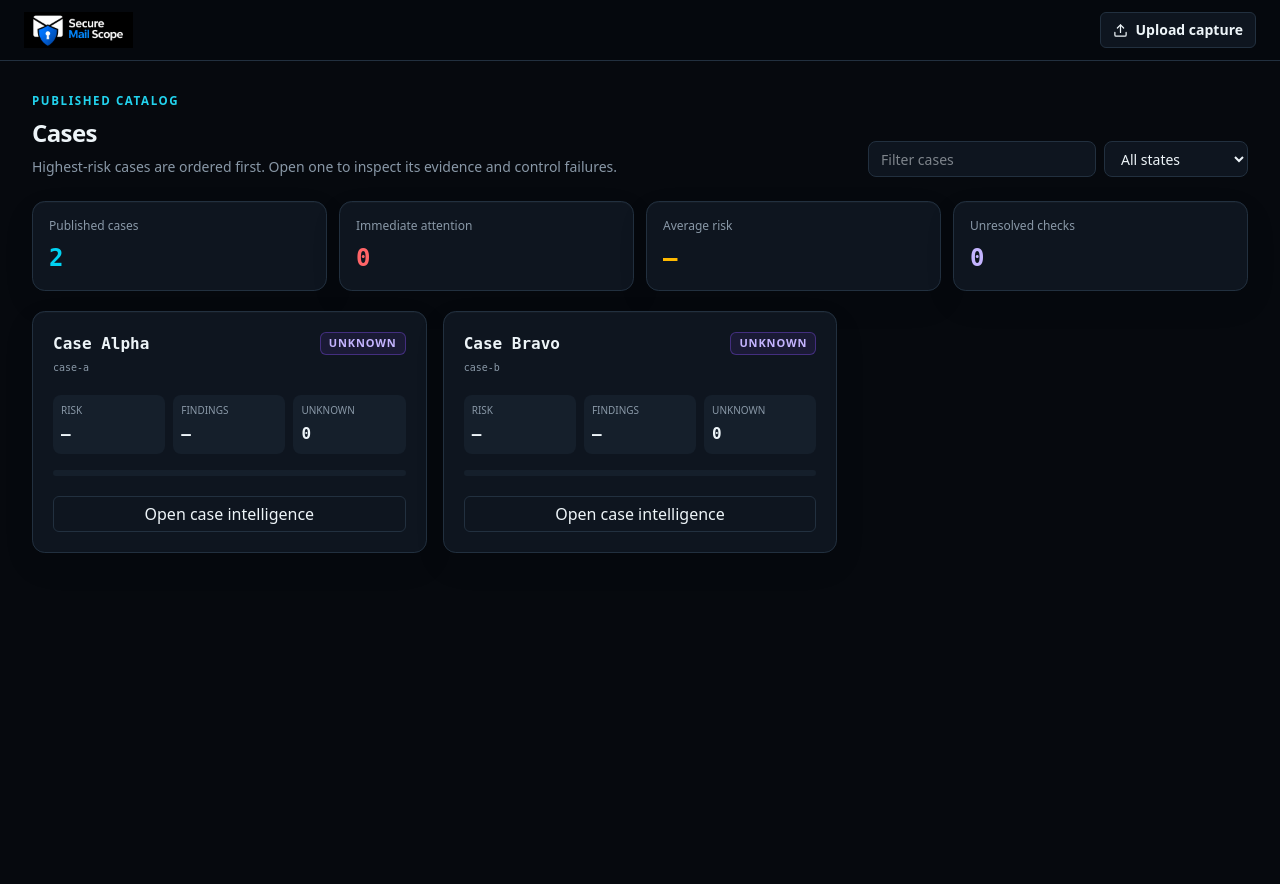
it: case isolation › does not retain a previous case after clear or switch
The image size is (1280, 884).
Expected: the heading "Case Alpha" is shown, top-left (53, 332), bottom-right (149, 356)
Step 1. Click the button "Open case intelligence" below "case-a" → {"x": 229, "y": 514}, box top-left (53, 496), bottom-right (406, 532)
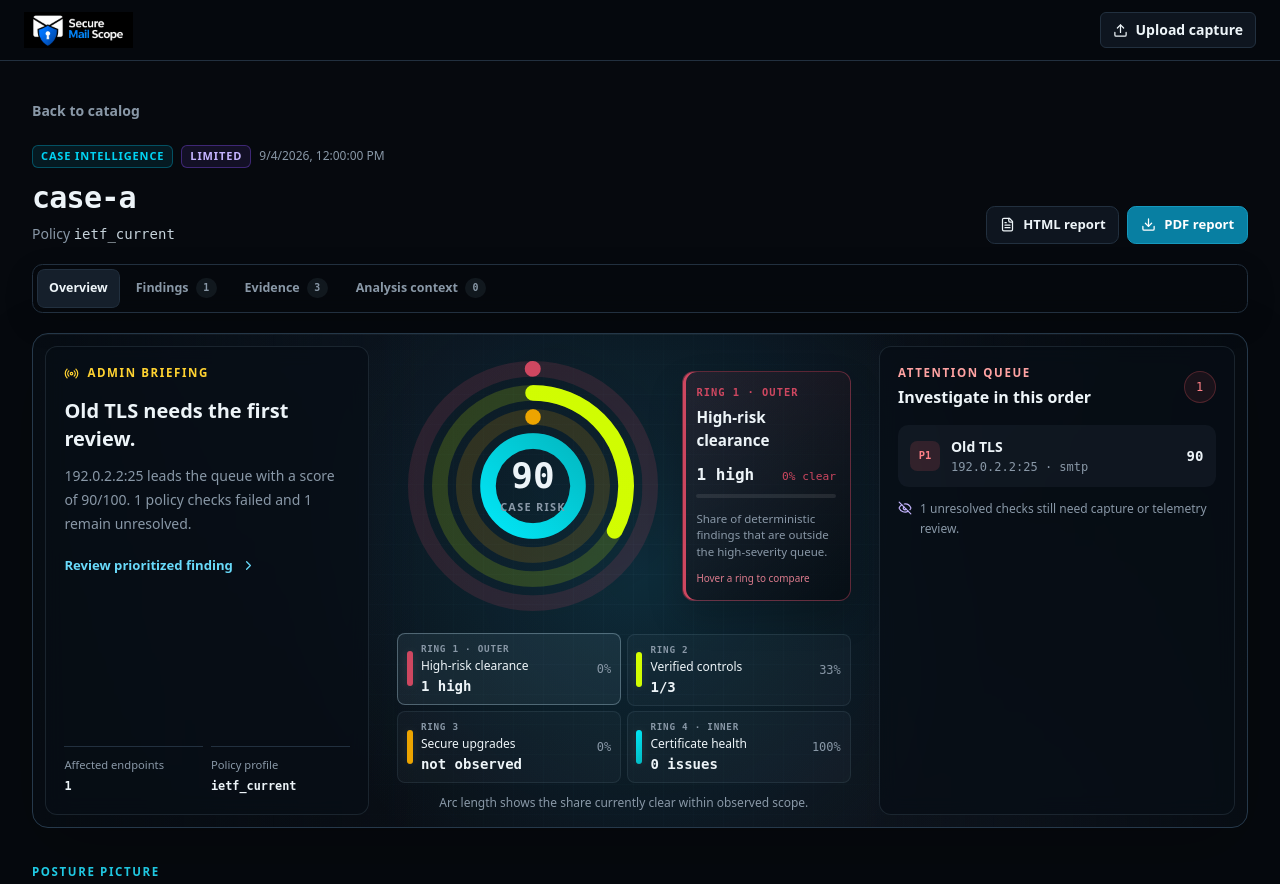
Expected: the heading "case-a" is shown, top-left (32, 180), bottom-right (136, 214)
Step 2. Click the link "Back to catalog" → {"x": 86, "y": 110}, box top-left (32, 101), bottom-right (140, 120)
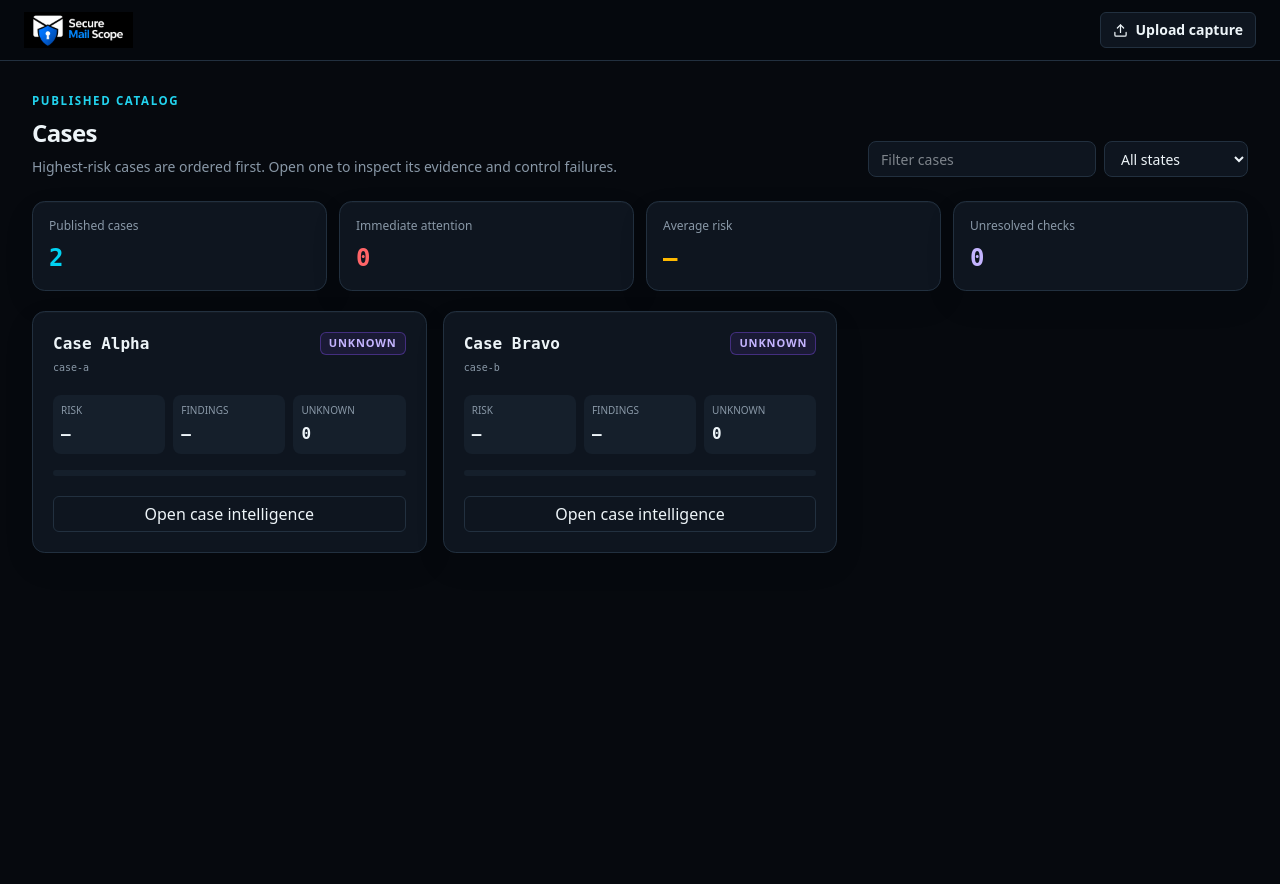
Now the element with test id "no-case-selected" is shown, box top-left (32, 93), bottom-right (1248, 553)
Step 3. Click the button "Open case intelligence" below "case-b" → {"x": 640, "y": 514}, box top-left (464, 496), bottom-right (816, 532)
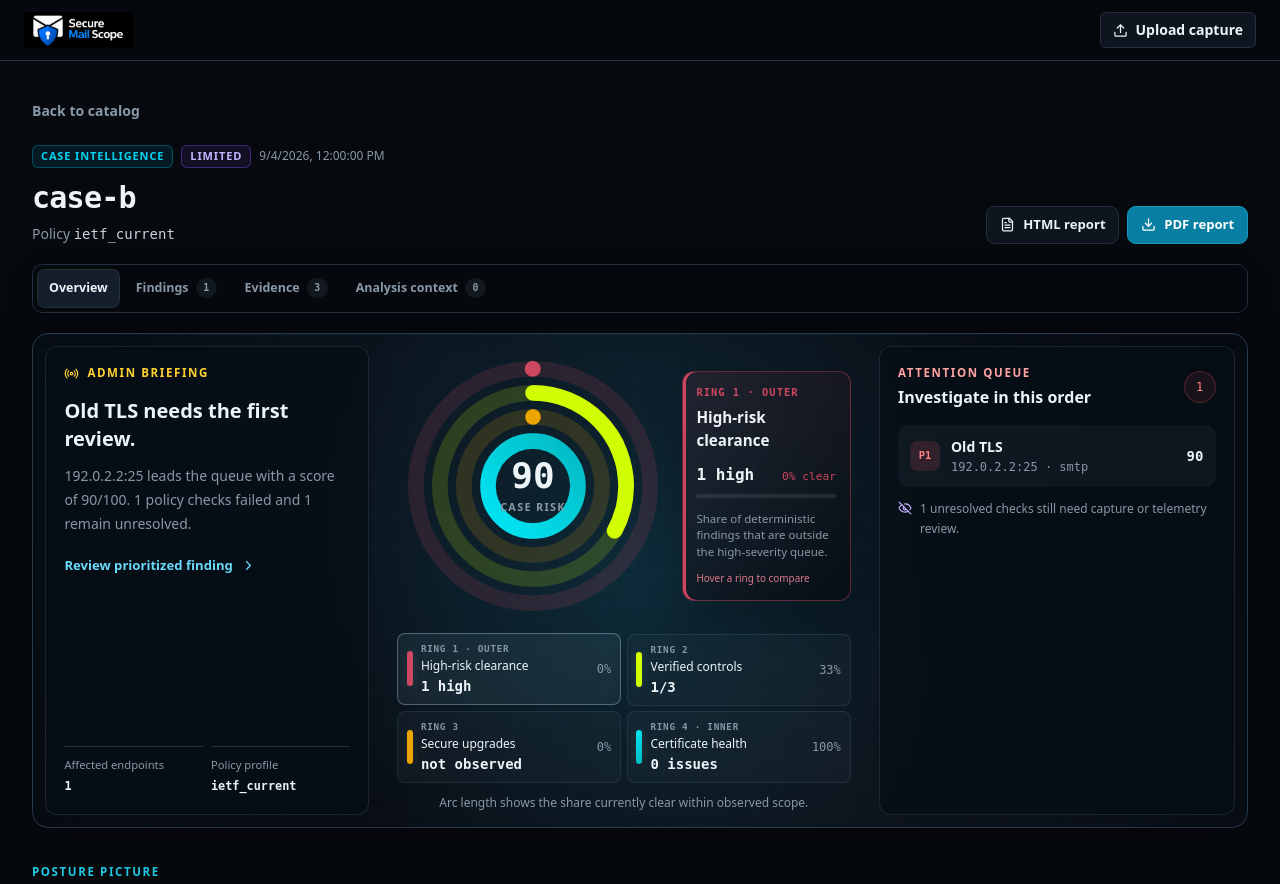
Now the heading "case-b" is shown, box top-left (32, 180), bottom-right (136, 214)
Now the text "case-a" is gone
Step 4. Click the link "Back to catalog" → {"x": 86, "y": 110}, box top-left (32, 101), bottom-right (140, 120)
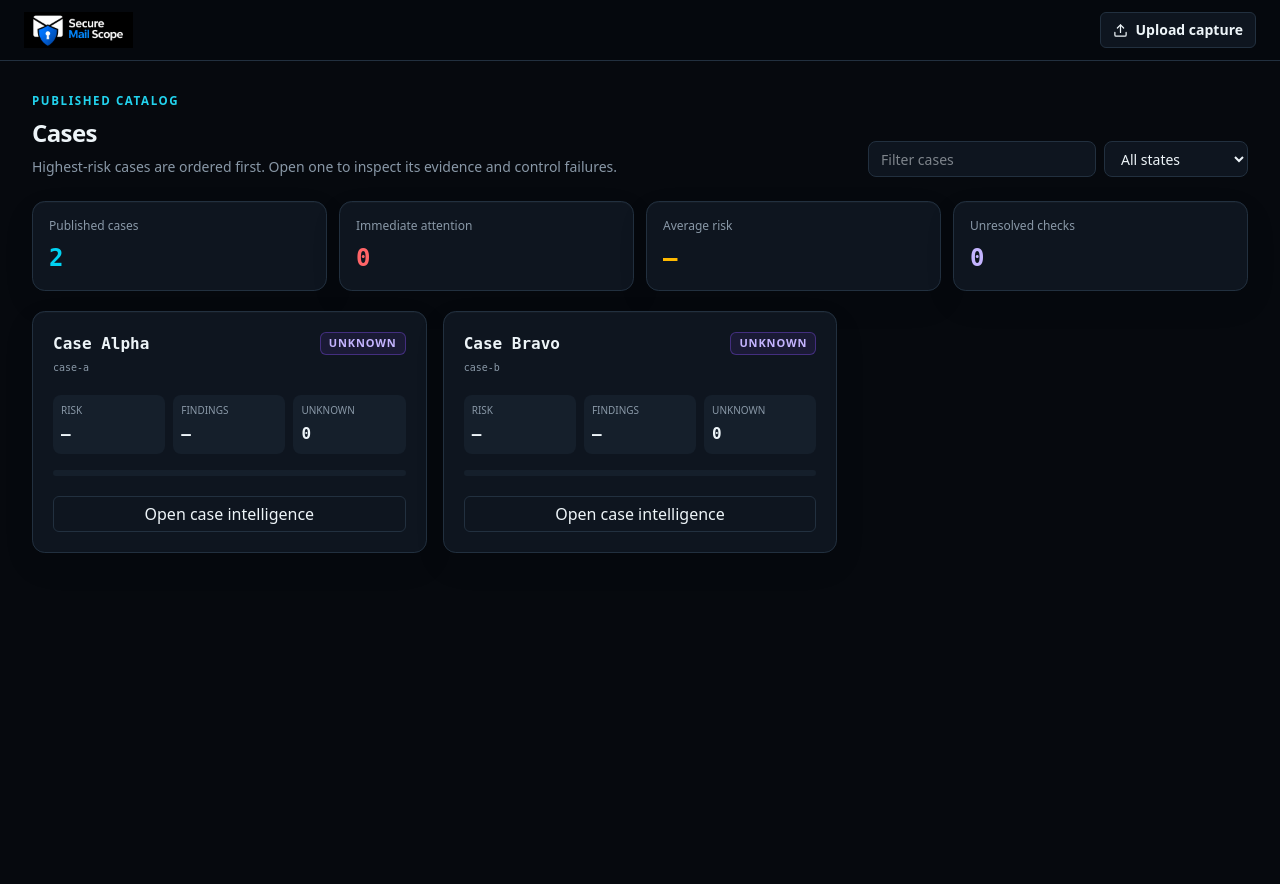
Now the element with test id "no-case-selected" is shown, box top-left (32, 93), bottom-right (1248, 553)
